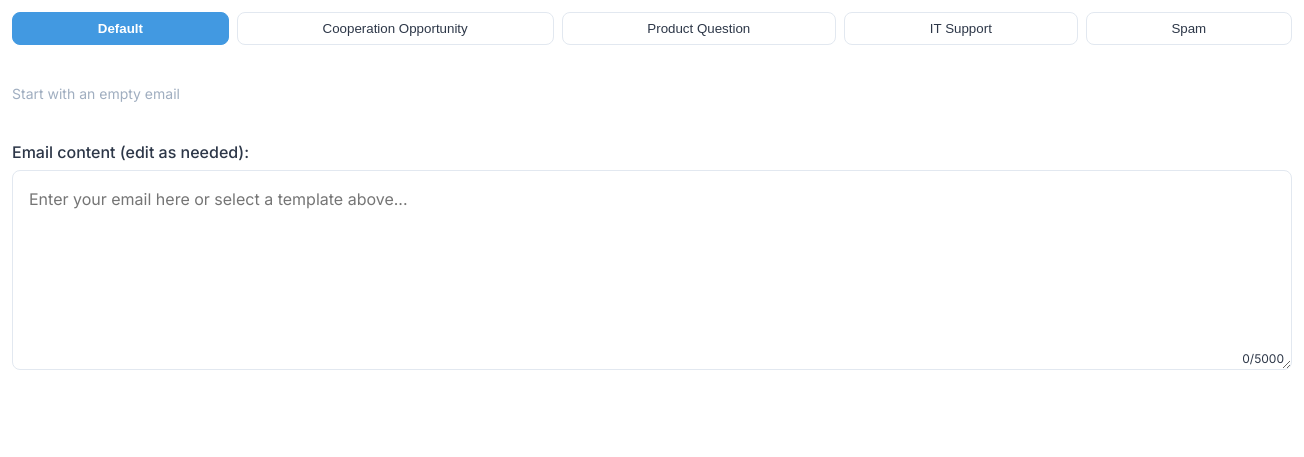
Test case: submit button disabled without input
Type "Hello" into the text box labelled "Email content (edit as needed):" at point(652, 270), box [12,170,1292,370]
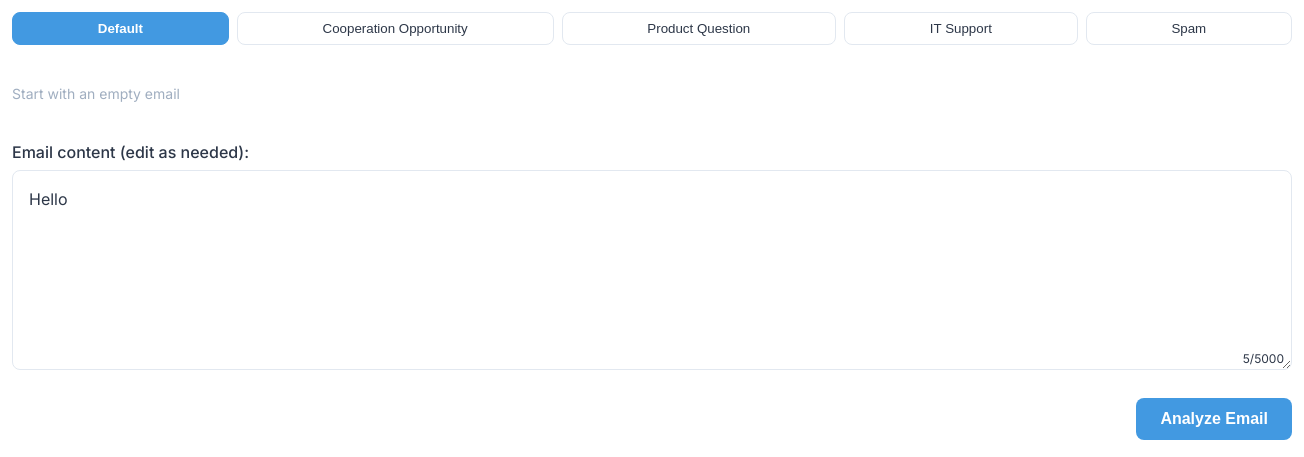
Check: the button "Analyze Email" is enabled, box [1136,398,1292,440]
